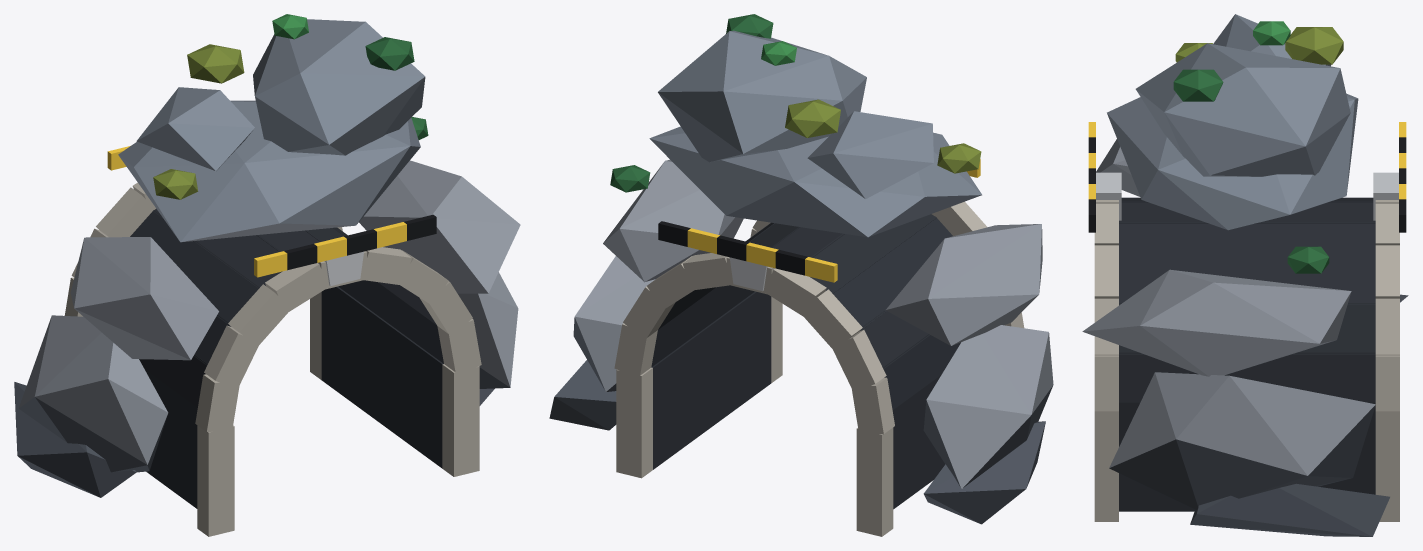
Rendered from tunnel.glb.
The picture shows the model from 3 angles, left to right: view 1: azimuth 30°, elevation 25°; view 2: azimuth 150°, elevation 25°; view 3: azimuth 270°, elevation 25°; orthographic projection. The views are drawn at different scales.
Parts seen in each view (by area): view 1: tunnel; view 2: tunnel; view 3: tunnel.
Boxes of the visible parts, bbox=[...] form: tunnel: bbox=[14, 14, 520, 536]; tunnel: bbox=[549, 14, 1053, 536]; tunnel: bbox=[1082, 14, 1408, 536].
Bounding box in the file's own units: 4.57 × 4.03 × 2.67.
1 material, 1 textured.
